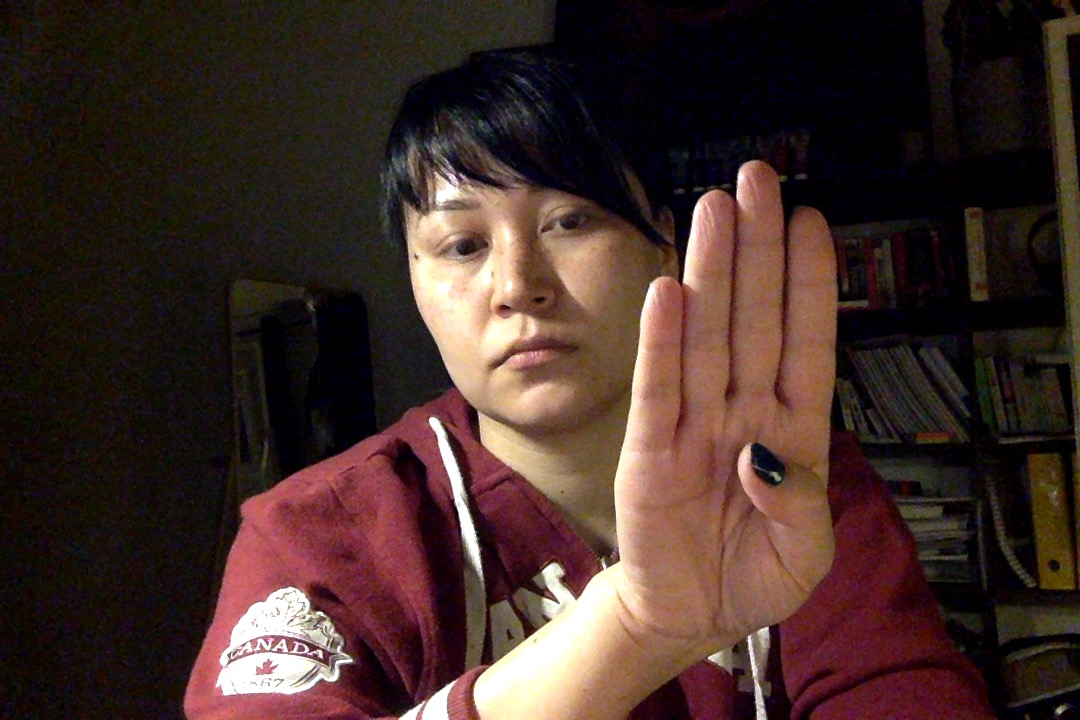b: (576, 155, 878, 666)
